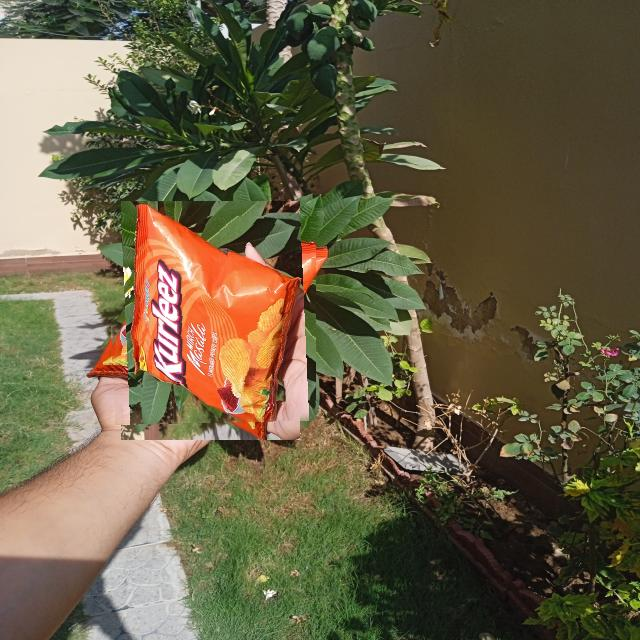Plastic: (106, 216, 316, 425)
